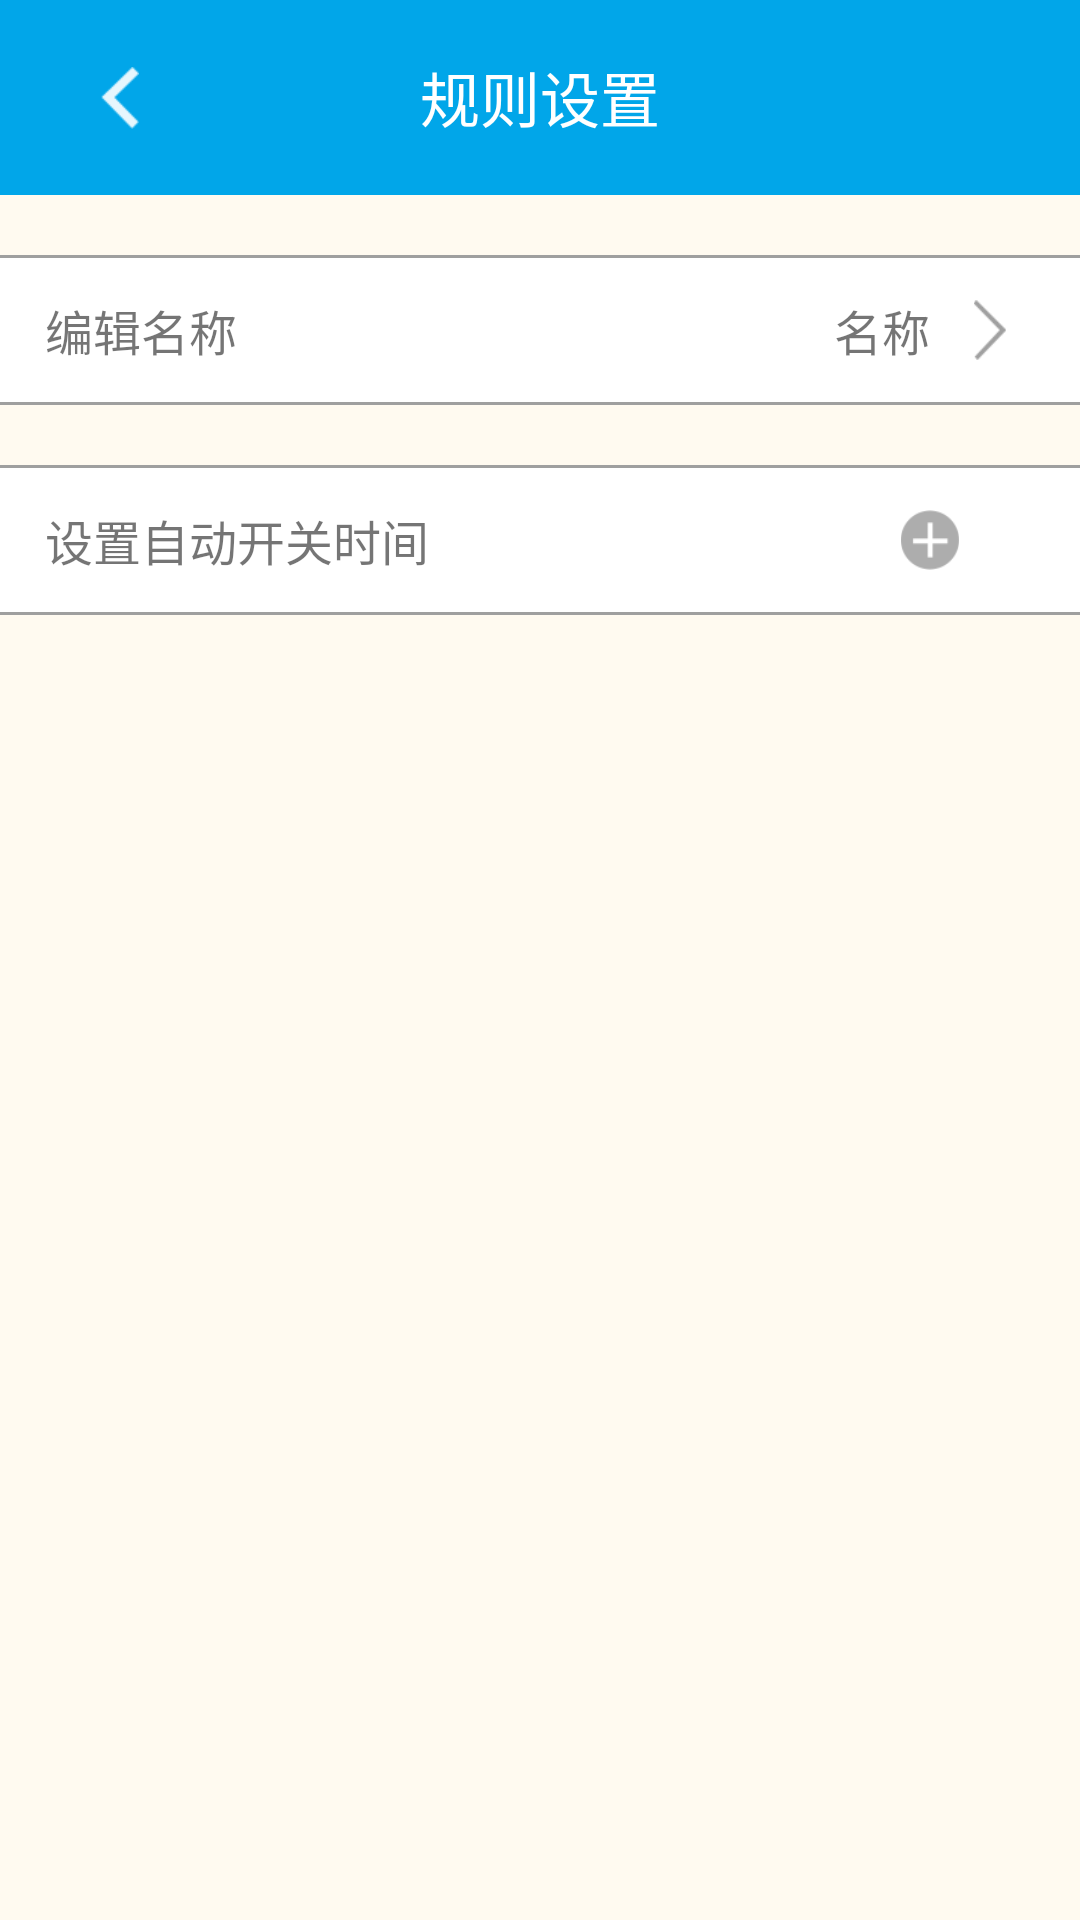

Where to tap for icons on this 1080w x 1920h app screen, as (x,y):
addtimebtn: (930,540)
arrowcopy: (990,330)
